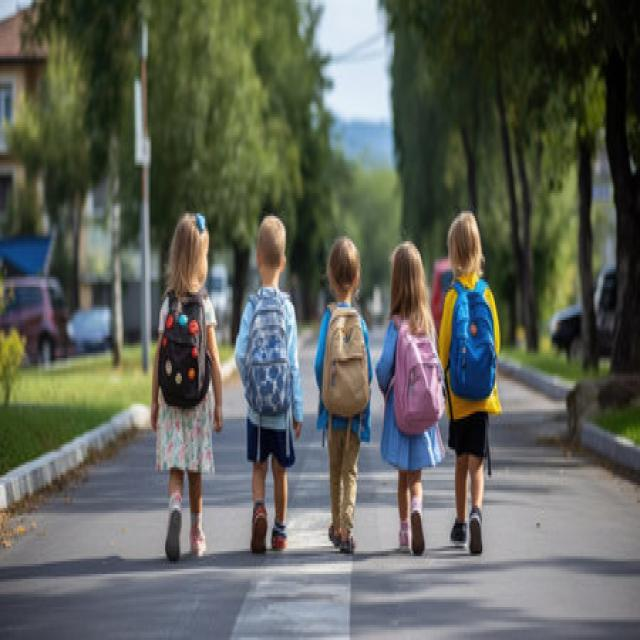Person: (150, 213, 223, 561), (235, 217, 304, 554), (376, 241, 448, 554), (439, 210, 503, 554), (314, 236, 372, 556)
